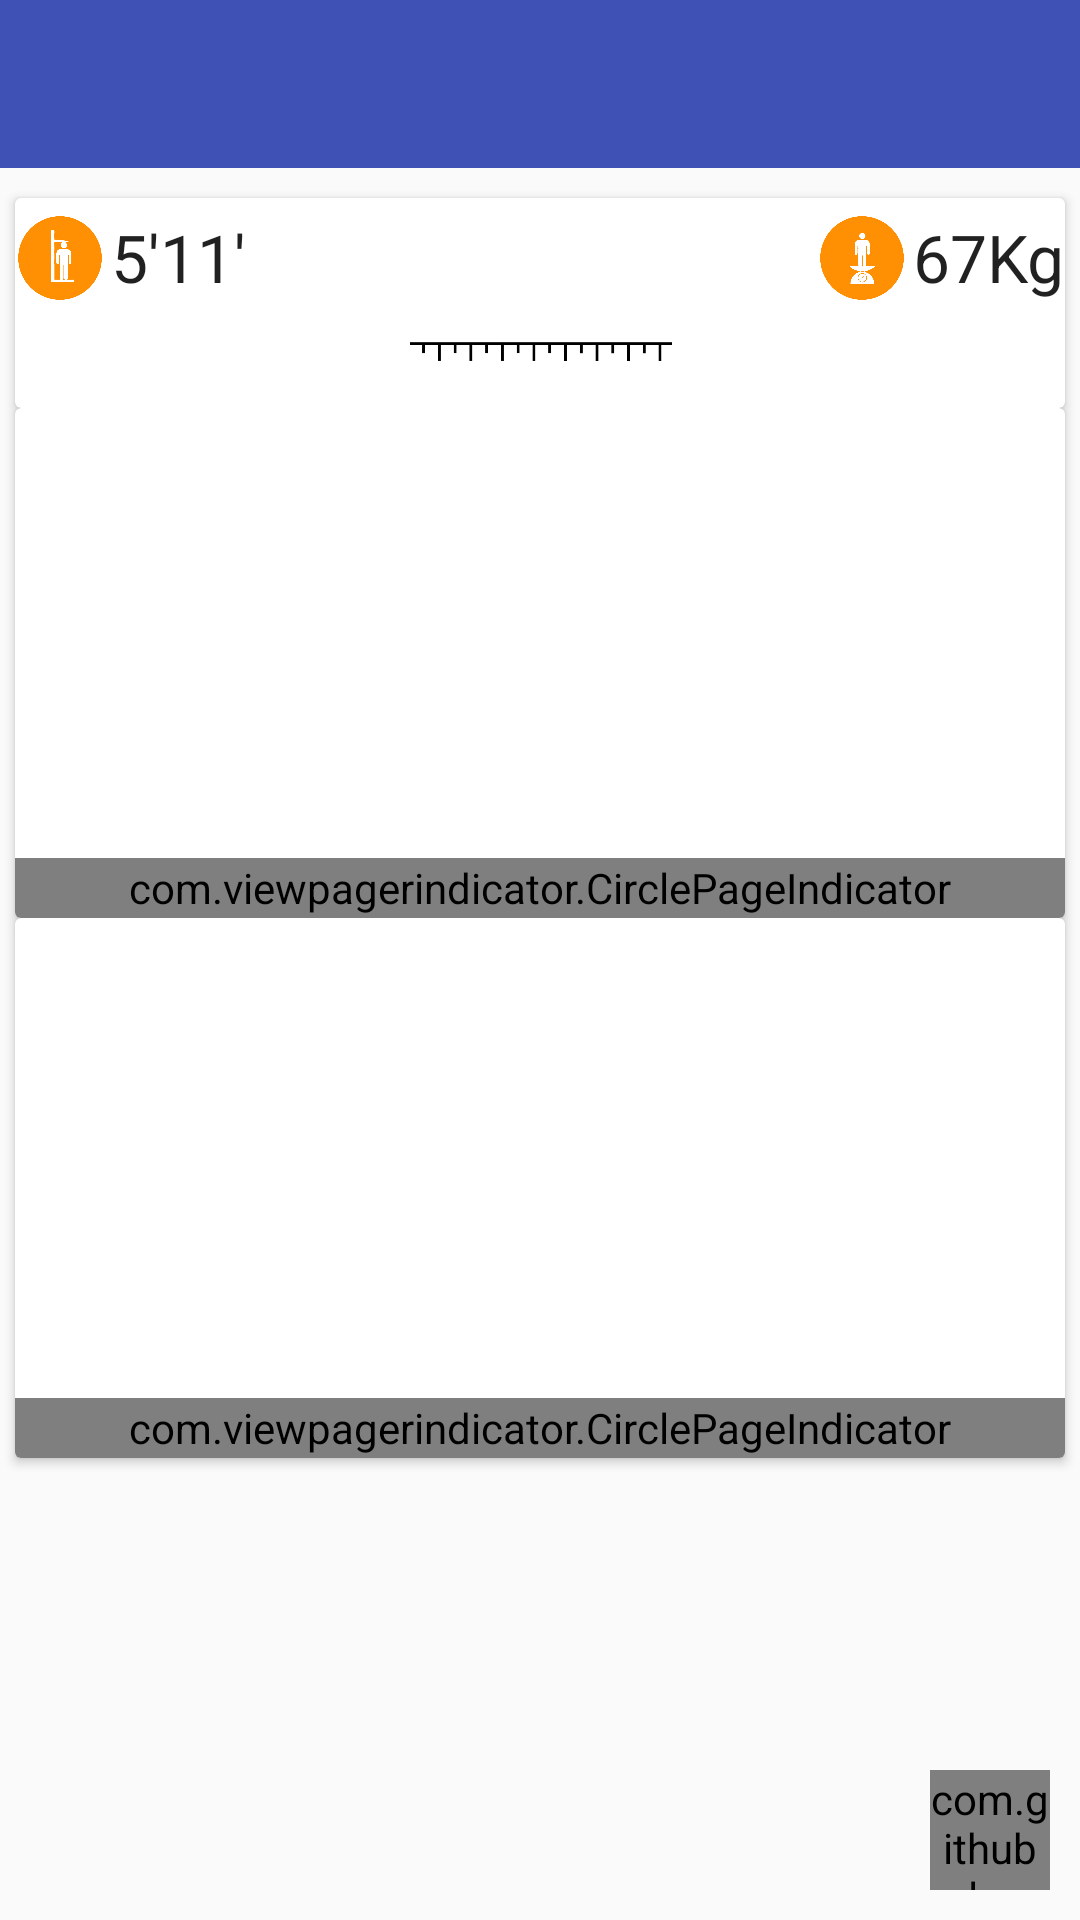

Icons on this 1080x1920 Android screen, each with the point to tap as [x,y]:
height: [60,258]
weight: [862,258]
